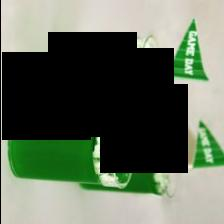green: (7, 112, 102, 184), (47, 39, 135, 106), (80, 154, 176, 198), (134, 89, 187, 154), (168, 20, 208, 80), (193, 121, 224, 169)
